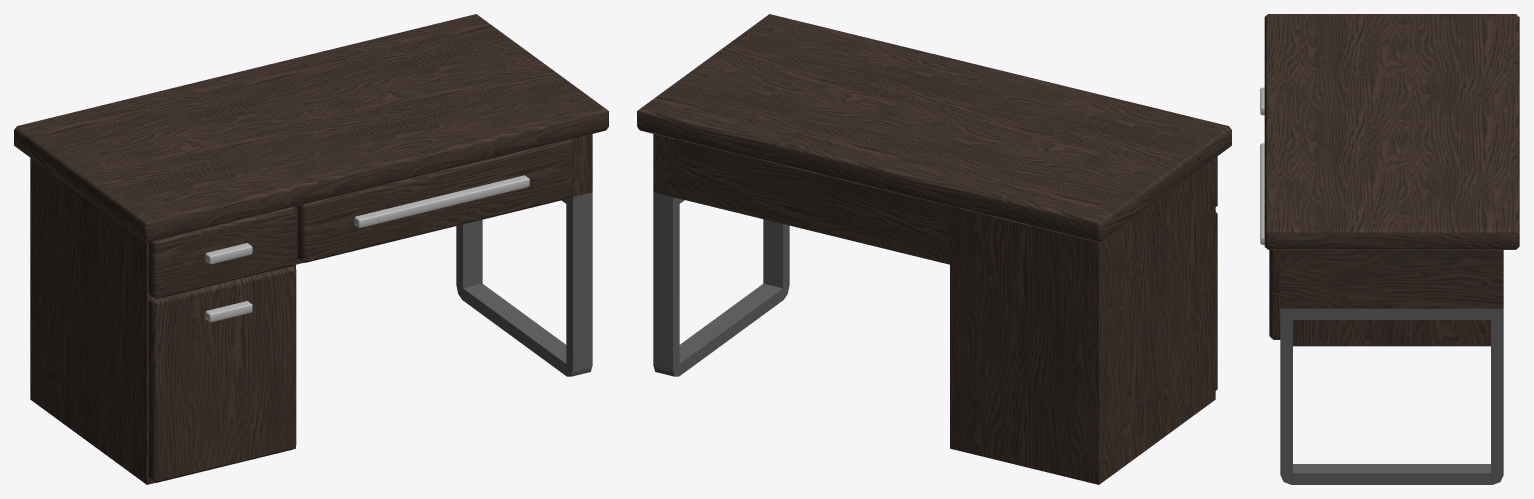
The model's file is work_table_007.fbx.
3 renders of one model, left to right at view 1: azimuth 30°, elevation 25°; view 2: azimuth 150°, elevation 25°; view 3: azimuth 270°, elevation 25°, orthographic. The views are drawn at different scales.
Visible parts, largest first — view 1: work_table_007; view 2: work_table_007; view 3: work_table_007.
Part boxes in pixels (left/top/right/bottom): work_table_007: left=14, top=14, right=608, bottom=484; work_table_007: left=637, top=14, right=1231, bottom=484; work_table_007: left=1260, top=14, right=1519, bottom=484.
Bounding box in the file's own units: 165 × 82.83 × 91.5.
